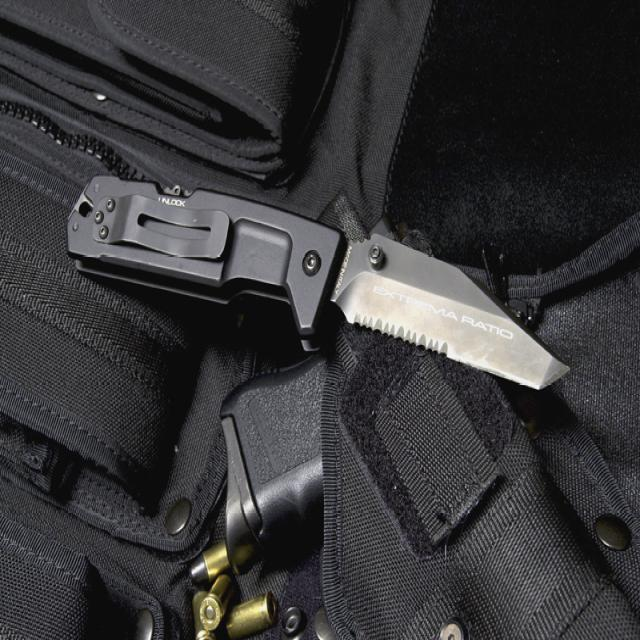knife: (68, 165, 579, 413)
